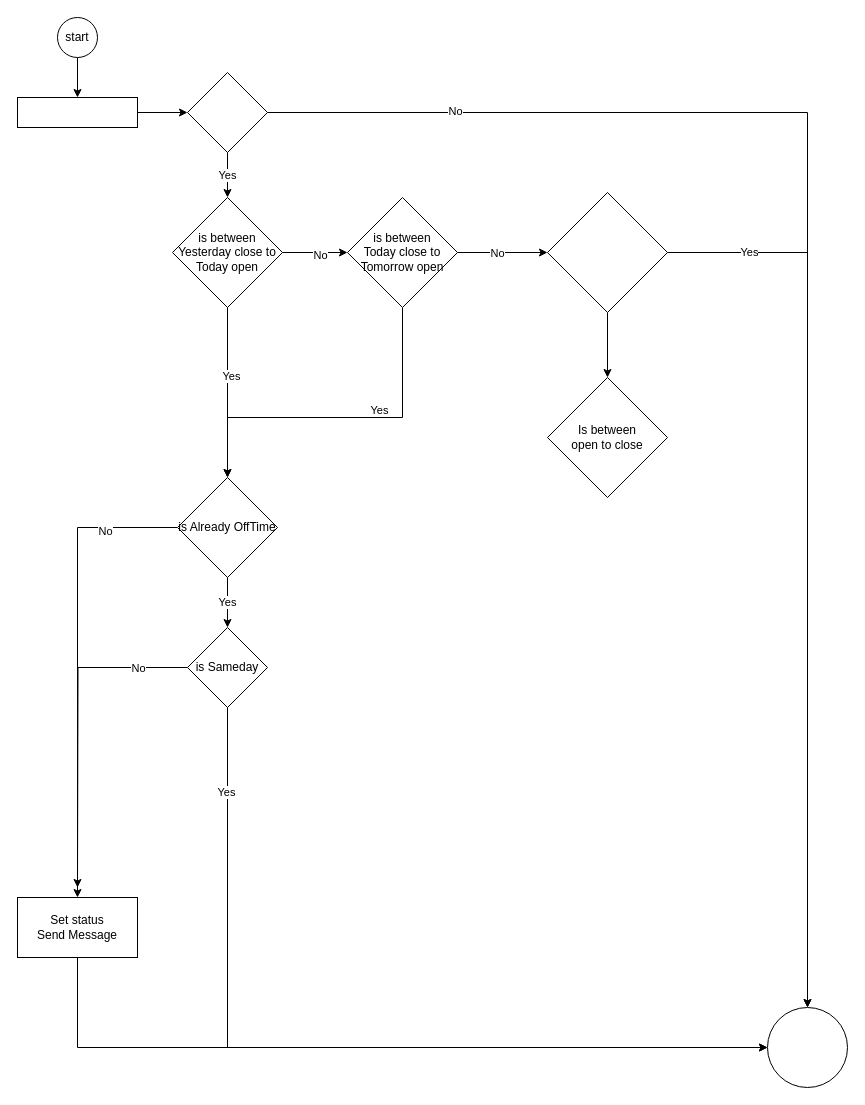
This 865x1105 diagram has some shape labels left out. The shapes that lost their labels are listed below. From the top down, each one's centre as x and y in pixels, then its label:
At [77,112]: "incoming message".
At [227,112]: "isOffTimeEnable".
At [607,252]: "In Ranges out of bound".
At [807,1047]: "end".
